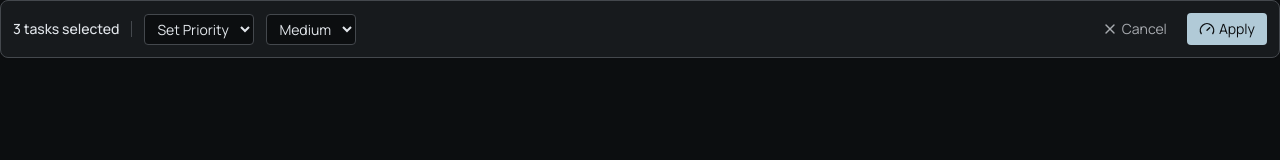
Test: TaskBulkActionBar › shows Delete button text when delete operation selected
The width and height of the screenshot is (1280, 160).
Select "Delete" in the dropdown with test id "bulk-operation". click: (199, 29)
box: x1=144 y1=14 x2=254 y2=44
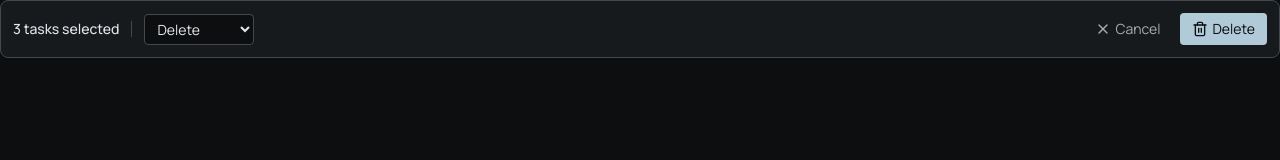
Expected: the button with test id "bulk-apply" reads "Delete", x1=1180 y1=13 x2=1267 y2=45
